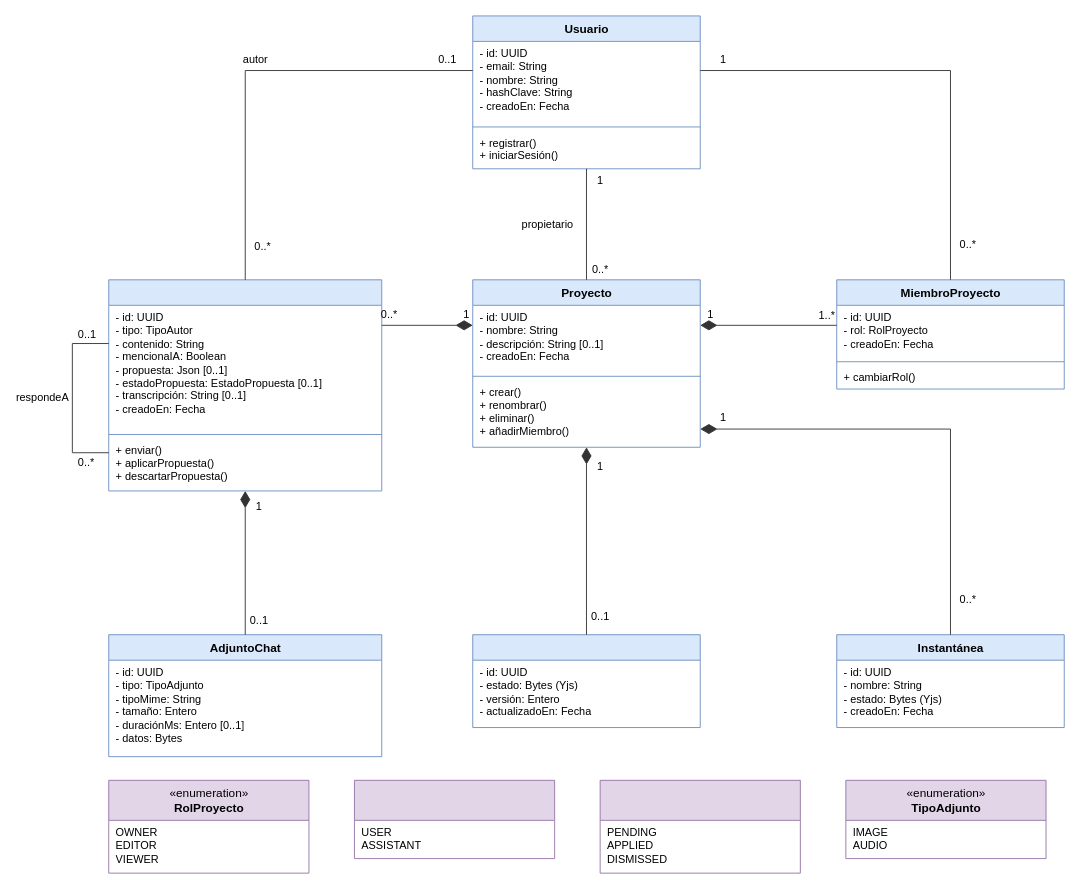
Image size: 1080x892. Some labels were removed from this diagram. The box of each missing label's shape, as (x1, y1, x2, y2) in pixels:
EstadoDocumento: (472, 634, 700, 728)
MensajeChat: (108, 279, 382, 491)
«enumeration» EstadoPropuesta: (599, 779, 800, 873)
«enumeration» TipoAutor: (354, 779, 555, 859)
